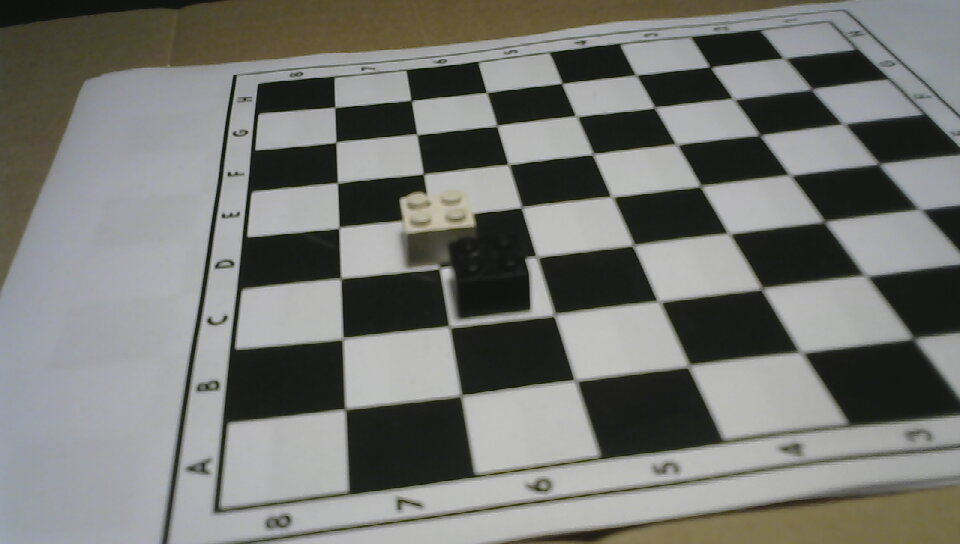bp: (442, 227, 536, 319)
